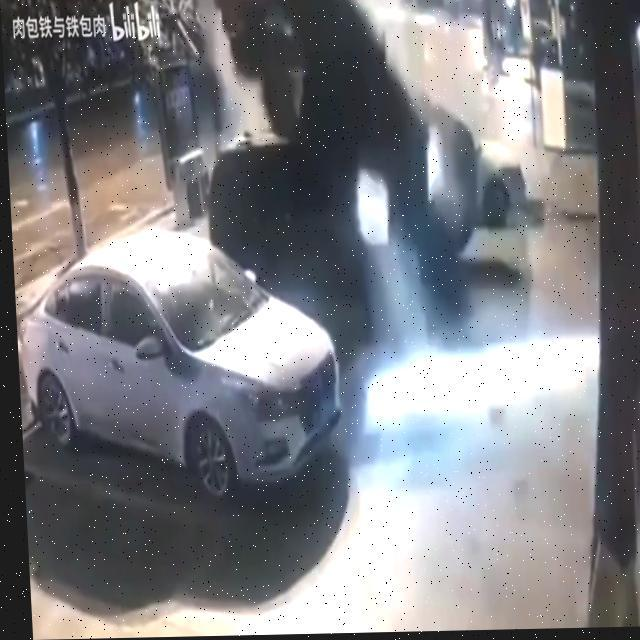multiple_accident: (122, 0, 562, 343)
normal: (0, 213, 373, 533)
